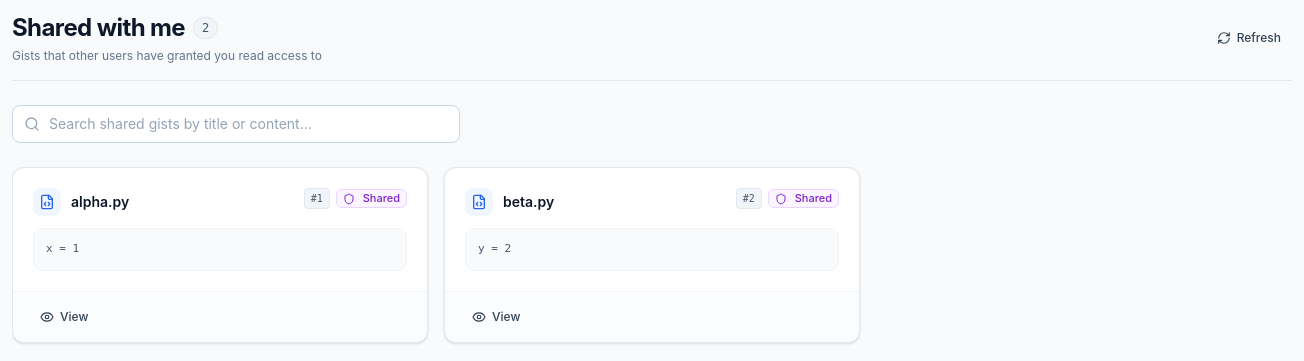
Test: SharedGistsPage Component › filters shared gists by search query
The width and height of the screenshot is (1304, 361).
Expected: the heading "alpha.py" is shown, [71,192,129,212]
Type "alpha" into the field with placeholder "Search shared gists by title or content..." at [236, 124], box [12,105,460,143]
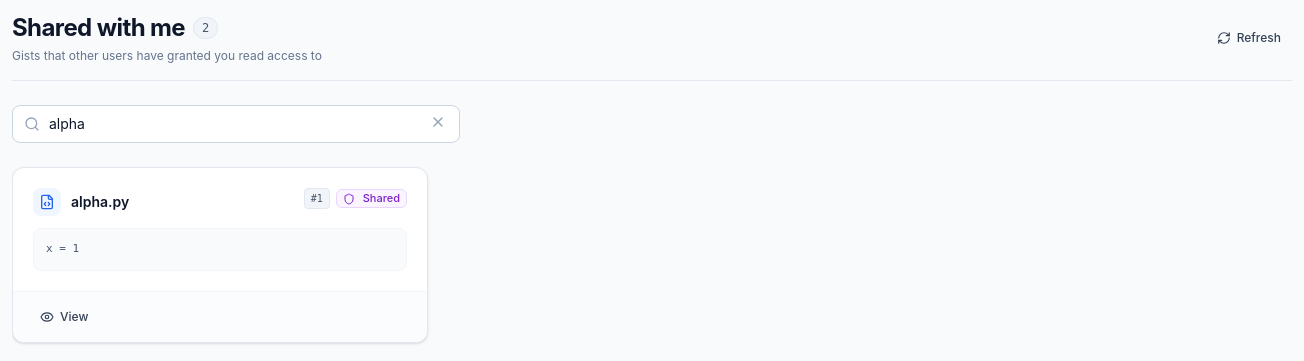
Expected: the heading "alpha.py" is shown, [71,192,129,212]
Now the heading "beta.py" is gone
